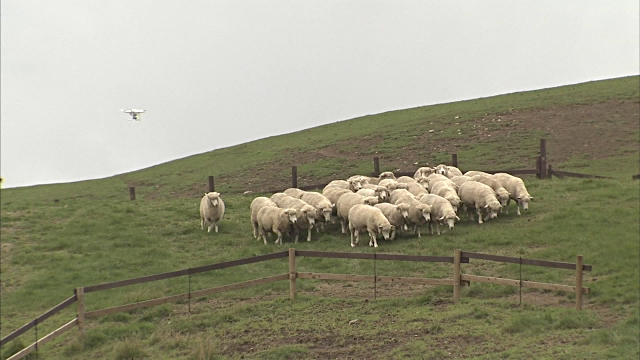sheep: (421, 193, 469, 244), (452, 181, 503, 227), (348, 205, 399, 246), (276, 191, 316, 238), (484, 173, 534, 210), (295, 190, 337, 229), (194, 190, 231, 232), (260, 205, 296, 244), (379, 199, 411, 236), (382, 174, 425, 201), (393, 195, 426, 230), (338, 176, 380, 202), (426, 174, 454, 208)
